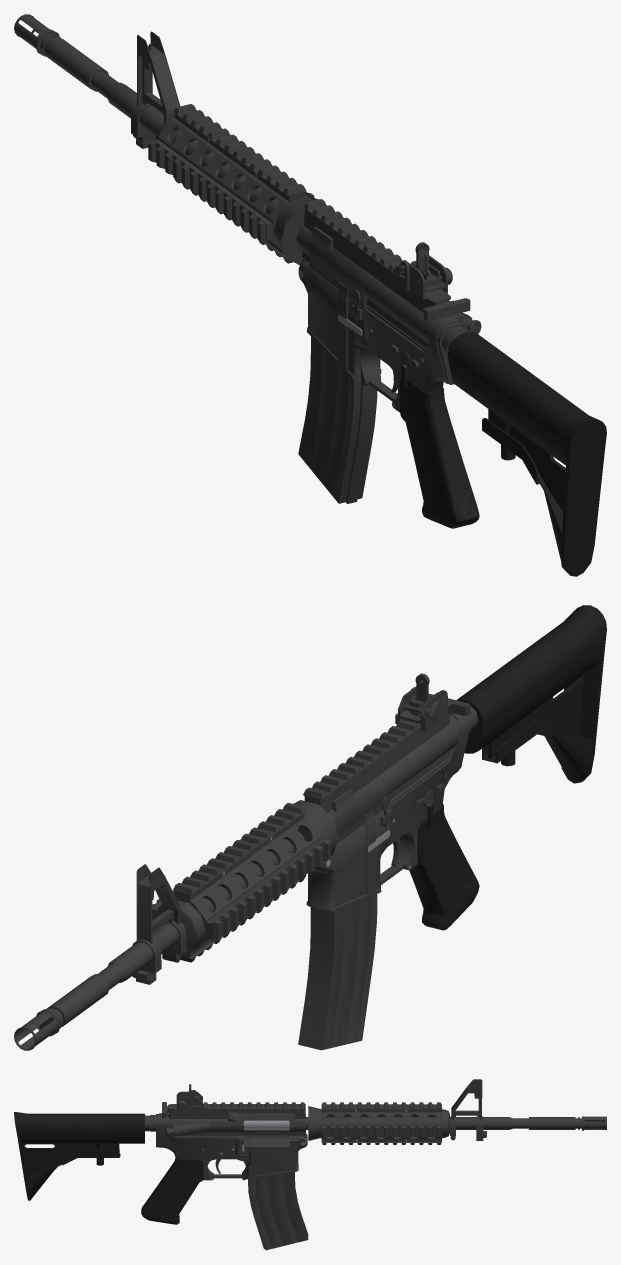
3 renders of one model, top to bottom at view 1: azimuth 30°, elevation 25°; view 2: azimuth 150°, elevation 25°; view 3: azimuth 270°, elevation 25°, orthographic. The views are drawn at different scales.
Visible parts, largest first — view 1: Base, Barrel, Stock, Magazine, Sight; view 2: Base, Barrel, Stock, Magazine, Sight; view 3: Base, Barrel, Stock, Magazine, Ejector_Lid, Sight, Ejector.
Boxes of the visible parts, x1,y1,x2,y2 form: Base: (296,199,481,528); Barrel: (14,14,318,265); Stock: (441,326,606,576); Magazine: (298,336,377,503); Sight: (395,242,447,299); Base: (303,702,479,930); Barrel: (14,800,338,1050); Stock: (456,605,606,783); Magazine: (298,894,377,1050); Sight: (395,673,447,730); Base: (141,1102,307,1224); Barrel: (306,1079,606,1144); Stock: (14,1112,155,1200); Magazine: (248,1172,308,1250); Ejector_Lid: (237,1132,296,1146); Sight: (176,1084,202,1111); Ejector: (243,1120,289,1128).
Size of the model in its own units: 0.0741 by 0.3101 by 1.
Materials: 1 (1 with a texture image).
